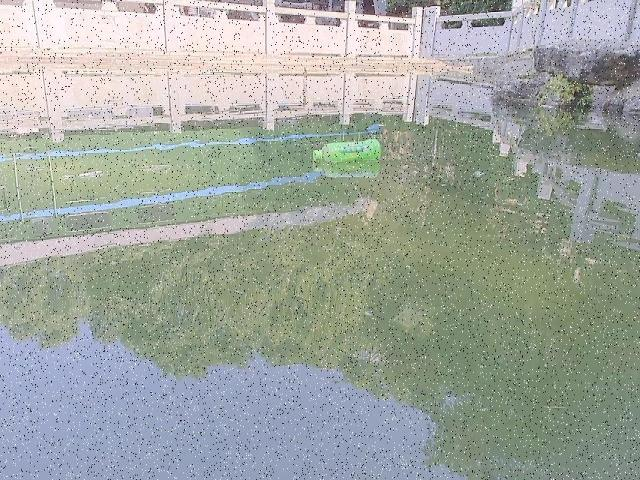Bottle: (303, 133, 391, 170)
